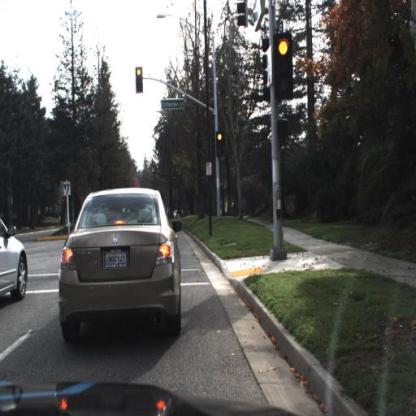car: (54, 183, 183, 344), (0, 202, 30, 303)
trafficLight-Red: (271, 28, 295, 102), (215, 128, 225, 158), (135, 65, 145, 93)
